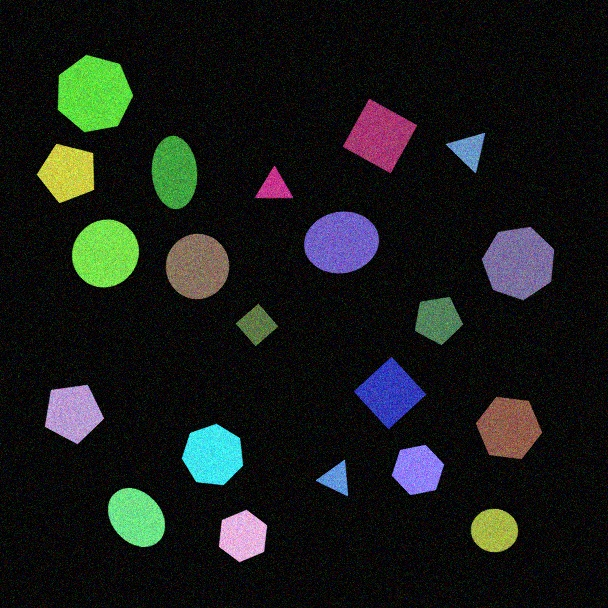Circulo: (71, 219, 140, 288), (165, 233, 230, 300), (470, 508, 519, 553)
Elipse: (303, 211, 380, 274), (107, 487, 166, 548), (151, 135, 198, 210)
Heptagono: (57, 54, 134, 133), (481, 226, 555, 301), (181, 423, 244, 486)
Hexagono: (475, 396, 543, 460), (391, 444, 445, 496), (218, 509, 268, 563)
Pentagono: (44, 384, 105, 445), (36, 143, 95, 204), (414, 296, 464, 346)
Quadrado: (342, 98, 418, 174), (353, 356, 427, 430), (235, 303, 279, 347)
Triangulo: (446, 132, 486, 174), (254, 166, 294, 199), (316, 459, 349, 497)
